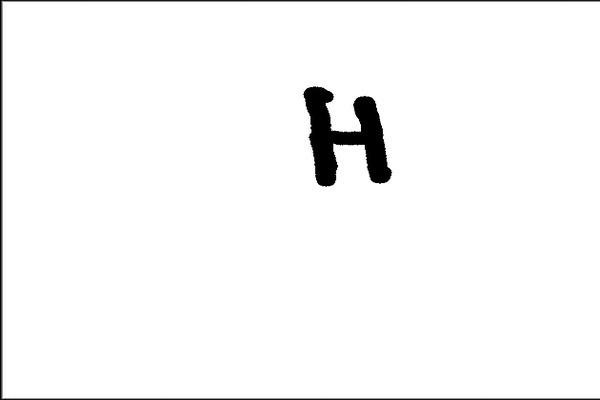H: (293, 78, 414, 203)
